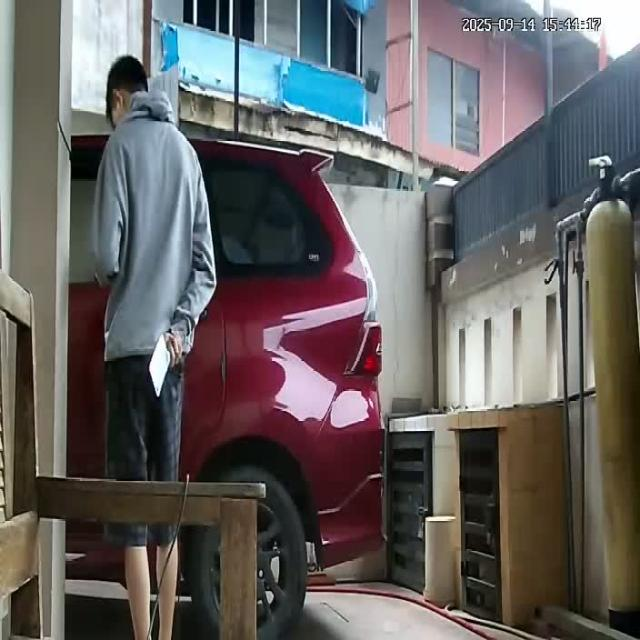senjata_tajam: (146, 333, 172, 400)
